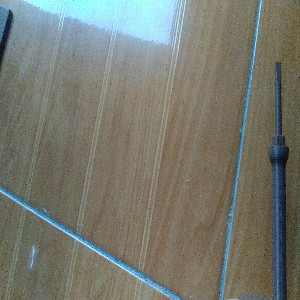obeng: (267, 59, 290, 300)
